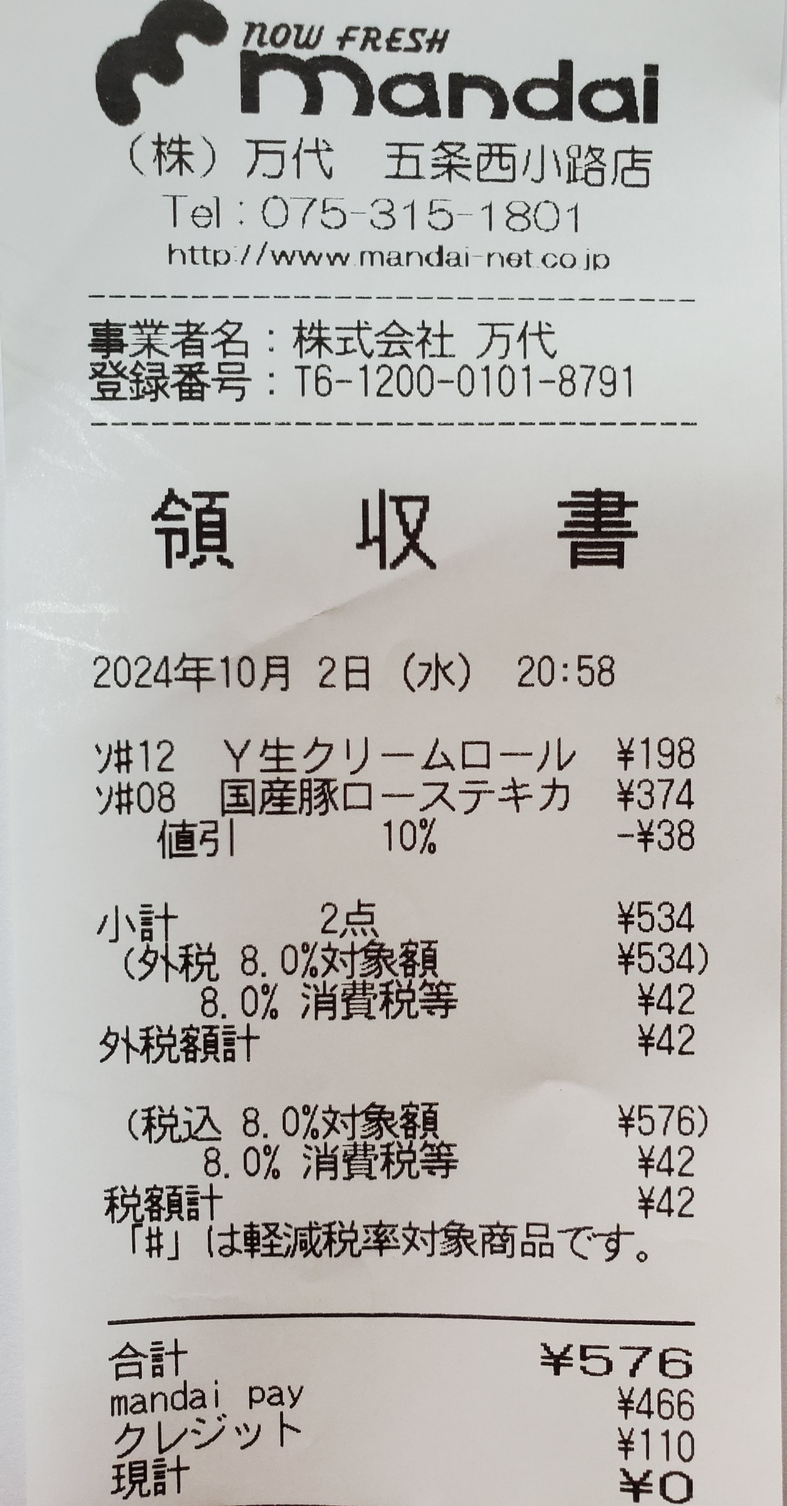Date: (77, 639, 392, 701)
Shopname: (230, 10, 681, 134)
Telnum: (252, 190, 605, 243)
Totalpay: (106, 1329, 721, 1391)
